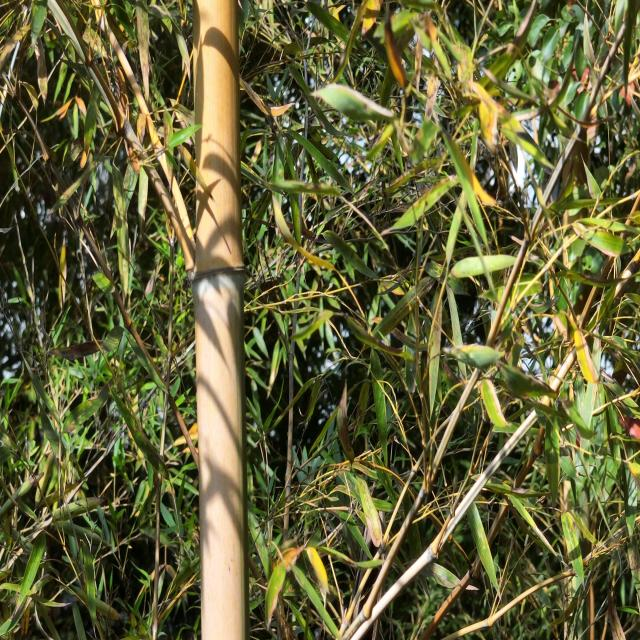Bamboo-shoots: (194, 0, 248, 640)
